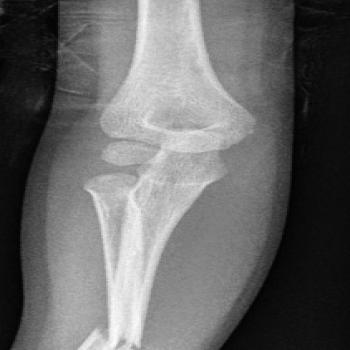Fracture: (72, 323, 164, 350)
